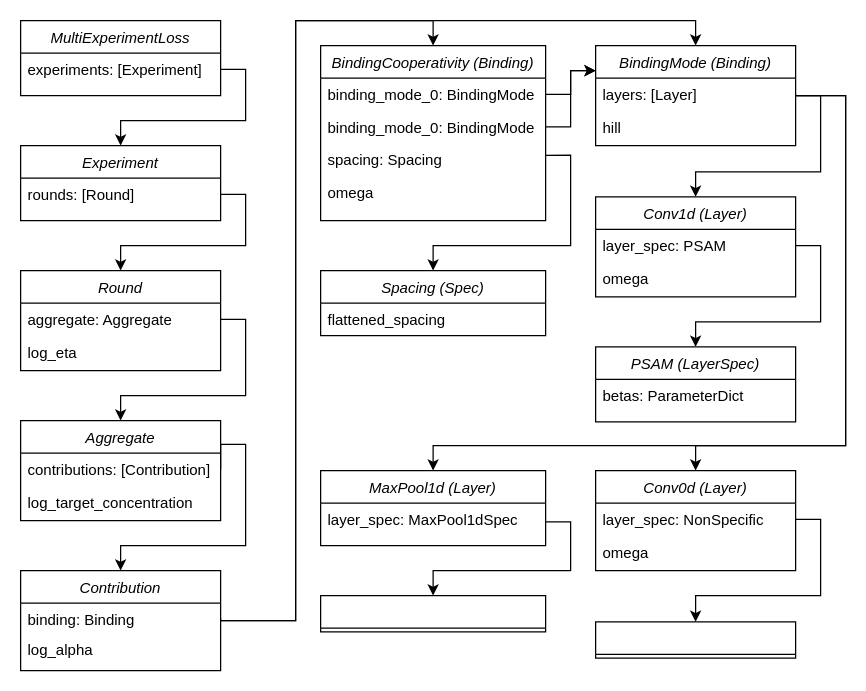
The diagram is 866 pixels wide and 691 high, and some of its shapes have lost their labels. Each missing label, with the centre of its shape:
MaxPool1dSpec (LayerSpec): the point at 432,613
Nonspecific (LayerSpec): the point at 695,639
